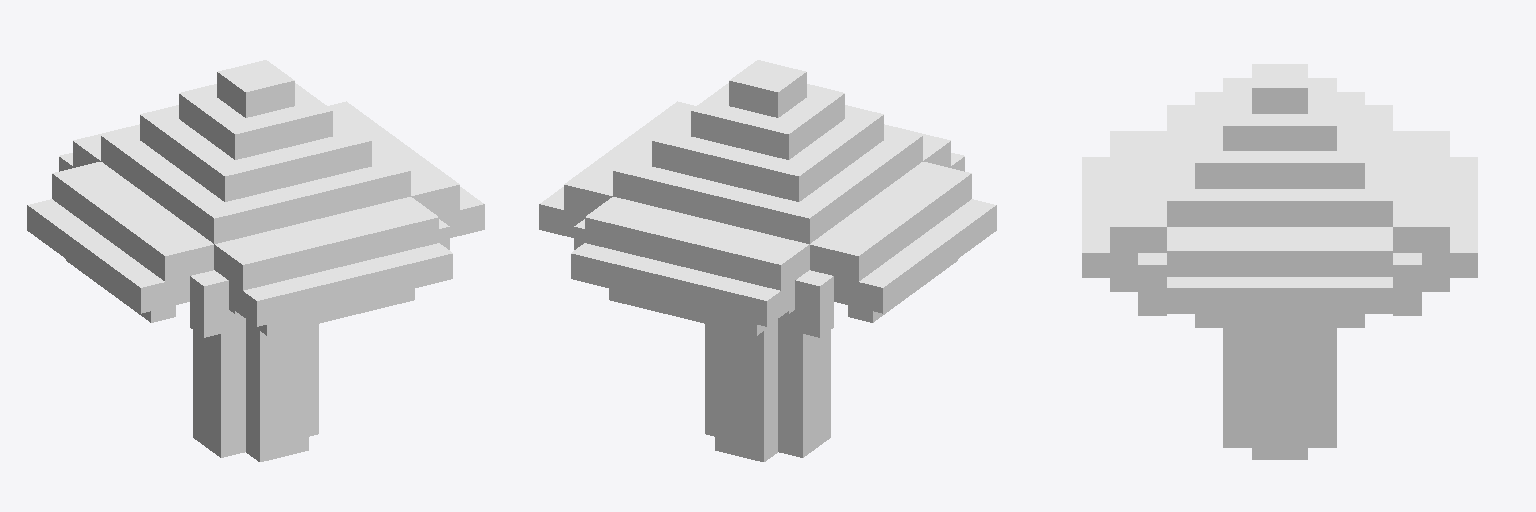
The model's file is FlueSvamp.obj.
3 views of the same model, side by side, from view 1: azimuth 30°, elevation 25°; view 2: azimuth 150°, elevation 25°; view 3: azimuth 270°, elevation 25° (orthographic).
Visible parts, largest first — view 1: object 1; view 2: object 1; view 3: object 1.
Boxes of the visible parts, x1=… form: object 1: x1=27, y1=60, x2=484, y2=461; object 1: x1=539, y1=60, x2=996, y2=461; object 1: x1=1082, y1=64, x2=1477, y2=459.
Bounding box in the file's own units: 1.4 × 1.4 × 1.4.